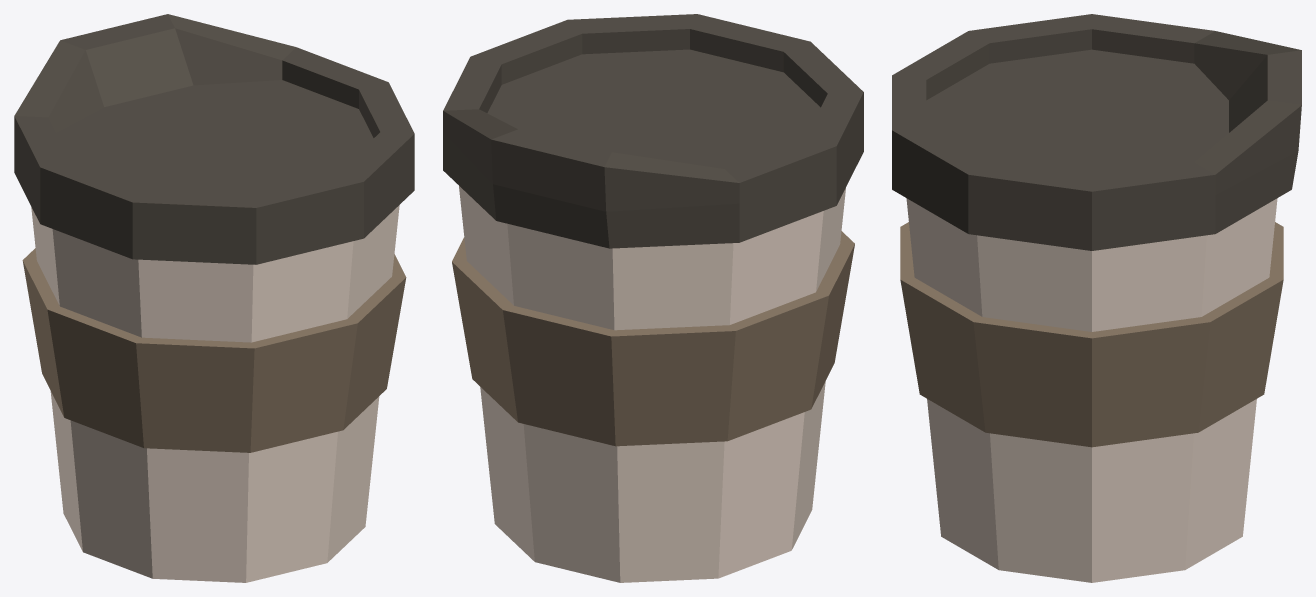
Rendered from CoffeeCup.fbx.
The picture shows the model from 3 angles, left to right: view 1: azimuth 30°, elevation 25°; view 2: azimuth 150°, elevation 25°; view 3: azimuth 270°, elevation 25°; orthographic projection. The views are drawn at different scales.
Visible parts, largest first — view 1: polySurface897; view 2: polySurface897; view 3: polySurface897.
Boxes of the visible parts, <box> form: polySurface897: <box>14,14,414,582</box>; polySurface897: <box>443,14,863,582</box>; polySurface897: <box>892,14,1301,582</box>.
Size of the model in its own units: 12.02 by 13.83 by 11.72.
